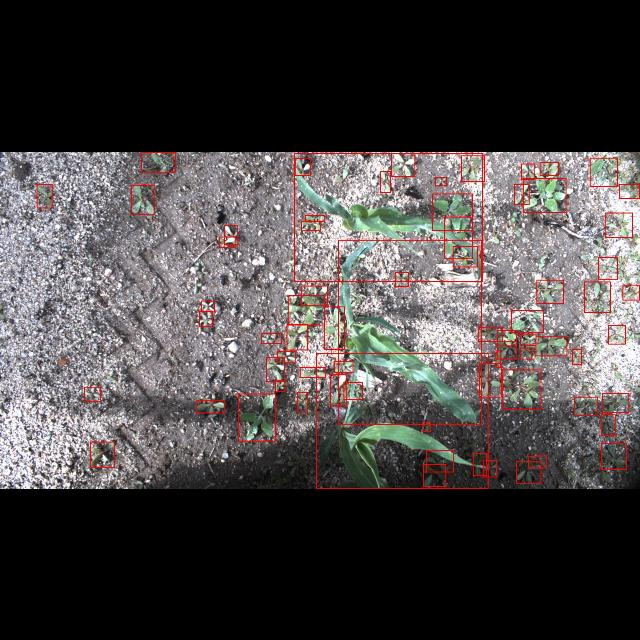crop: (338, 238, 482, 424), (294, 153, 482, 281), (316, 354, 488, 488)
weed: (238, 394, 276, 441), (503, 369, 541, 409), (432, 192, 472, 230), (522, 178, 566, 212), (444, 216, 472, 258), (289, 295, 325, 325), (324, 306, 344, 348), (584, 280, 610, 312), (590, 157, 618, 186), (479, 363, 501, 397), (511, 310, 543, 332), (141, 151, 175, 171), (536, 279, 564, 303), (132, 184, 154, 213), (606, 212, 632, 236), (461, 155, 485, 181), (602, 443, 626, 469), (426, 450, 454, 472), (536, 336, 566, 356), (90, 442, 114, 466), (286, 323, 308, 349), (516, 461, 542, 483), (422, 464, 446, 486), (301, 285, 327, 305), (452, 246, 478, 266), (330, 374, 346, 406), (392, 152, 414, 175), (603, 393, 629, 412), (598, 256, 618, 278), (266, 357, 284, 381), (574, 397, 598, 415), (36, 183, 52, 207), (608, 324, 626, 344), (196, 400, 224, 412), (478, 327, 502, 341), (498, 341, 516, 359), (514, 183, 530, 203), (620, 182, 640, 198), (473, 453, 487, 475), (601, 414, 615, 436), (343, 382, 362, 398), (498, 329, 516, 345), (622, 284, 640, 300), (84, 386, 100, 402), (225, 224, 238, 243), (300, 367, 324, 377), (296, 158, 310, 175), (380, 170, 390, 192), (529, 456, 547, 468), (540, 162, 558, 174), (484, 459, 496, 476), (261, 333, 281, 343), (297, 392, 307, 412), (277, 351, 295, 362), (200, 310, 212, 326), (333, 362, 352, 372), (302, 220, 321, 230), (522, 164, 534, 178), (396, 272, 408, 286), (520, 334, 536, 344), (572, 348, 582, 364), (220, 236, 234, 247), (202, 300, 214, 312), (520, 348, 532, 358), (306, 215, 324, 221), (422, 421, 431, 431), (436, 177, 446, 186), (276, 380, 284, 390), (496, 350, 500, 368)
